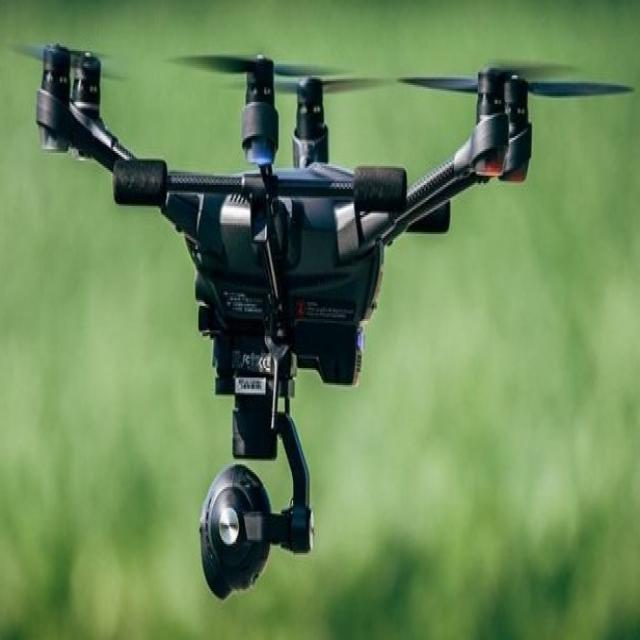drone: (0, 16, 639, 596)
